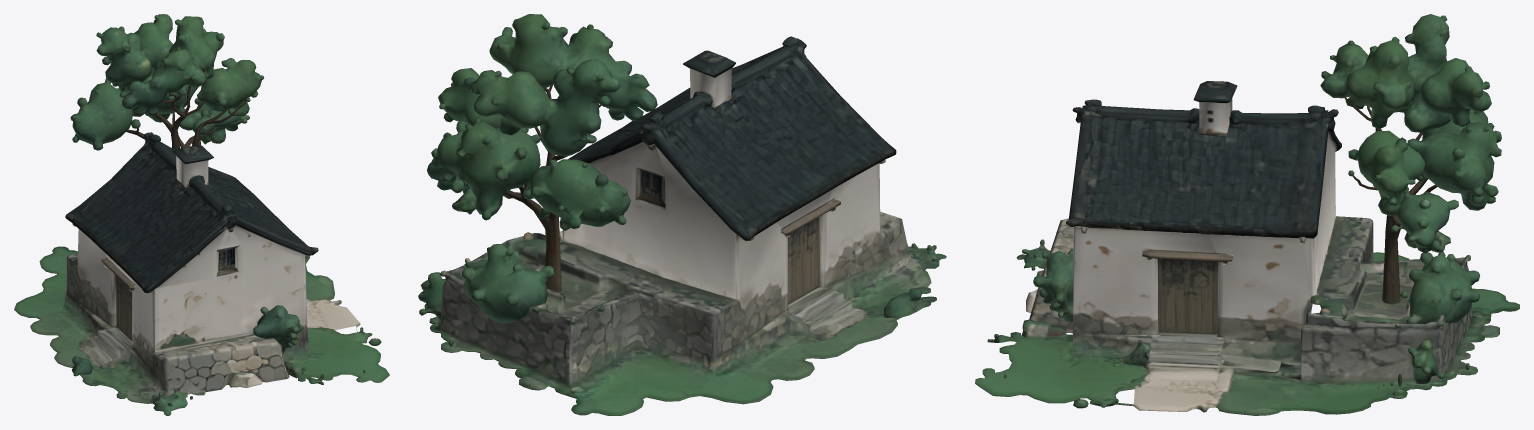
File: house5.glb
3 renders of one model, left to right at view 1: azimuth 30°, elevation 25°; view 2: azimuth 150°, elevation 25°; view 3: azimuth 270°, elevation 25°, orthographic. The views are drawn at different scales.
Parts seen in each view (by area): view 1: tripo_node_cbcb8319-db3e-41c4-8066-8aa99a904175; view 2: tripo_node_cbcb8319-db3e-41c4-8066-8aa99a904175; view 3: tripo_node_cbcb8319-db3e-41c4-8066-8aa99a904175.
Part boxes in pixels (x1,y1,x2,y2): tripo_node_cbcb8319-db3e-41c4-8066-8aa99a904175: (14, 14, 389, 415); tripo_node_cbcb8319-db3e-41c4-8066-8aa99a904175: (418, 14, 946, 415); tripo_node_cbcb8319-db3e-41c4-8066-8aa99a904175: (975, 14, 1519, 415).
Size of the model in its own units: 0.8364 by 0.6626 by 0.9995.
1 material, 1 textured.
